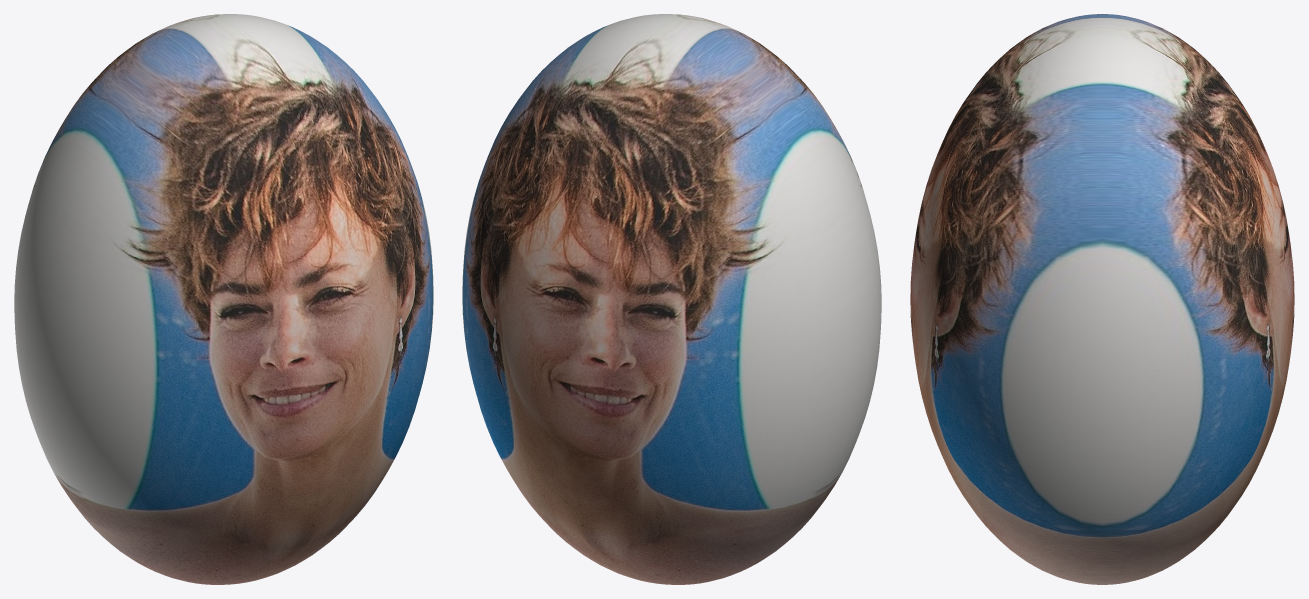
3 renders of one model, left to right at view 1: azimuth 30°, elevation 25°; view 2: azimuth 150°, elevation 25°; view 3: azimuth 270°, elevation 25°, orthographic.
Visible parts, largest first — view 1: head; view 2: head; view 3: head.
Part boxes in pixels (left/top/right/bottom): head: left=14, top=14, right=433, bottom=584; head: left=462, top=14, right=881, bottom=584; head: left=910, top=14, right=1294, bottom=584.
Size of the model in its own units: 1.43 by 2 by 1.29.
1 material, 1 textured.
